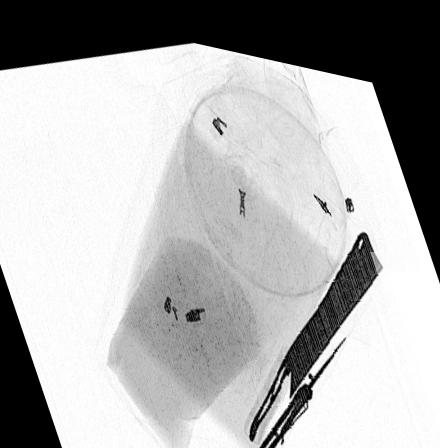Knife: (247, 214, 383, 430)
